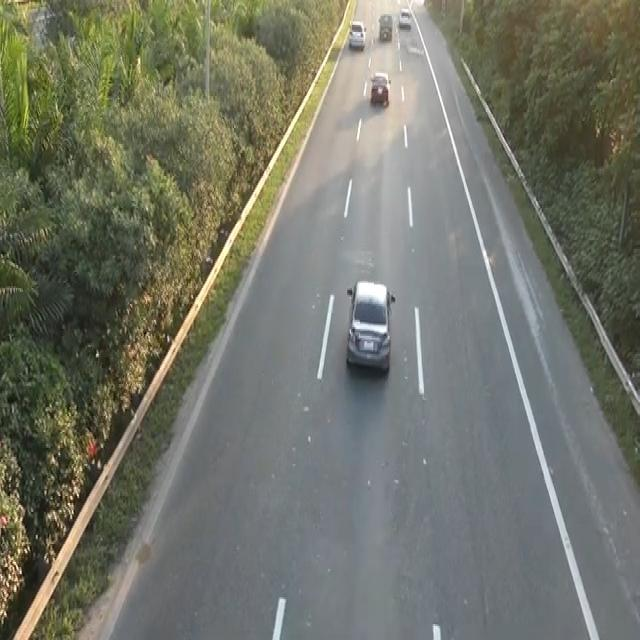bus: (343, 274, 398, 382)
minivan: (377, 10, 394, 42)
